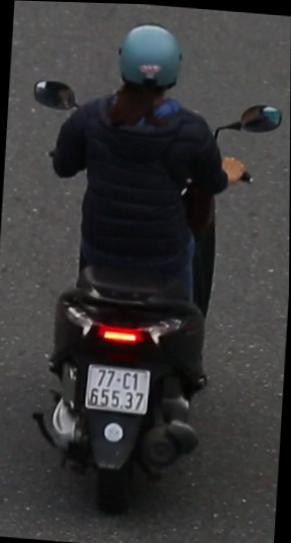LP: (81, 357, 156, 417)
helmet: (107, 18, 188, 112)
